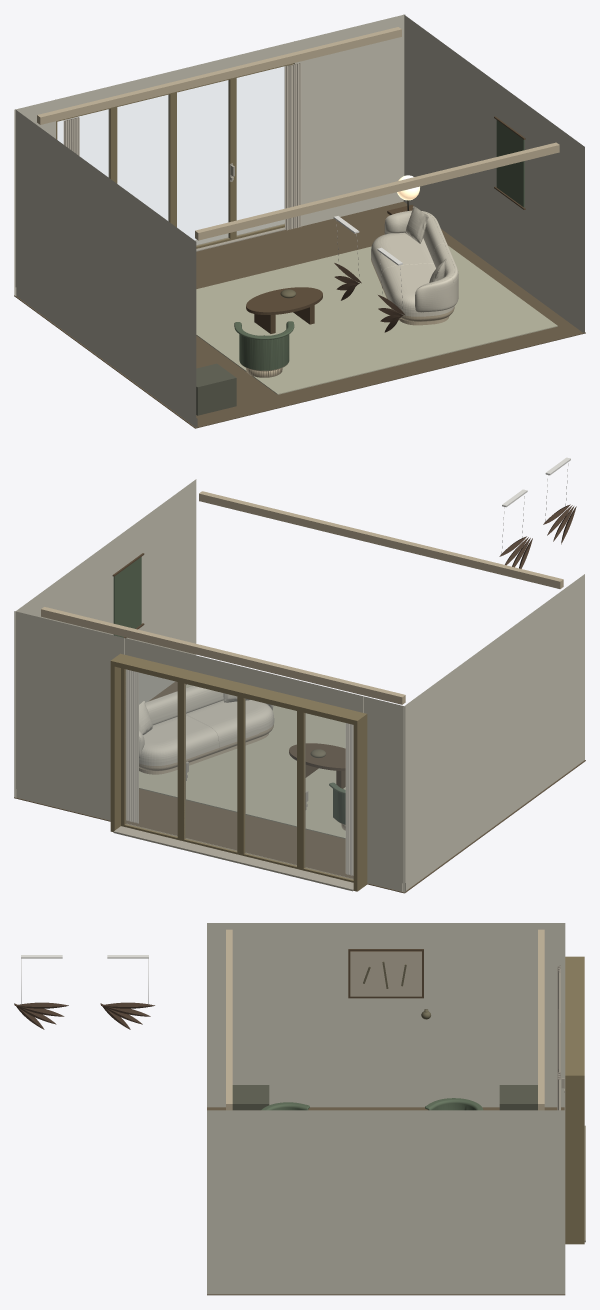
The model's file is great-3.glb.
The picture shows the model from 3 angles, top to bottom: view 1: azimuth 30°, elevation 25°; view 2: azimuth 150°, elevation 25°; view 3: azimuth 270°, elevation 25°; orthographic projection.
Parts seen in each view (by area): view 1: DESIGN | great removable wall finish, DESIGN | Great room primary ground, DESIGN | great floor finish, DESIGN | R10 bifold panel 4 glass, DESIGN | Great room sofa facing conversation, DESIGN | R10 bifold panel 3 glass, DESIGN | R10 bifold panel 2 glass, DESIGN | Garden salon perimeter timber, DESIGN | Garden salon perimeter timber.001, DESIGN | Great room soft window edge.001, DESIGN | Required Bellustar swivel chair one, DESIGN | R10 bifold panel 1 glass (+9 smaller); view 2: DESIGN | great removable wall finish, DESIGN | Great room primary ground, DESIGN | R10 bifold panel 3 glass, DESIGN | R10 bifold panel 4 glass, DESIGN | R10 bifold panel 2 glass, DESIGN | great floor finish, DESIGN | R10 bifold panel 1 glass, DESIGN | Great room sofa facing conversation, DESIGN | Garden salon perimeter timber, DESIGN | Garden salon perimeter timber.001, DESIGN | R10 garden opening head, DESIGN | R10 garden opening jamb (+14 smaller); view 3: DESIGN | great removable wall finish, DESIGN | R10 garden opening jamb.001, DESIGN | R10 quiet mineral artwork, DESIGN | R10 garden opening head, DESIGN | great floor finish, DESIGN | Garden salon perimeter timber, DESIGN | Garden salon perimeter timber.001, DESIGN | Great room low stone display.001, DESIGN | Great room low stone display, DESIGN | Required Flou pendant 1, DESIGN | Required Flou pendant 2, DESIGN | R10 mineral artwork slim frame (+1 smaller).
Part boxes in pixels (x1,y1,x2,y2): DESIGN | great removable wall finish: [14, 14, 584, 427]; DESIGN | Great room primary ground: [196, 245, 557, 394]; DESIGN | great floor finish: [14, 201, 585, 428]; DESIGN | R10 bifold panel 4 glass: [177, 80, 228, 245]; DESIGN | Great room sofa facing conversation: [371, 206, 458, 325]; DESIGN | R10 bifold panel 3 glass: [237, 66, 284, 235]; DESIGN | R10 bifold panel 2 glass: [117, 95, 168, 220]; DESIGN | Garden salon perimeter timber: [195, 142, 559, 240]; DESIGN | Garden salon perimeter timber.001: [37, 27, 401, 124]; DESIGN | Great room soft window edge.001: [285, 63, 301, 230]; DESIGN | Required Bellustar swivel chair one: [234, 321, 294, 377]; DESIGN | R10 bifold panel 1 glass: [57, 109, 109, 177]; DESIGN | great removable wall finish: [14, 479, 584, 892]; DESIGN | Great room primary ground: [139, 684, 345, 838]; DESIGN | R10 bifold panel 3 glass: [125, 669, 177, 836]; DESIGN | R10 bifold panel 4 glass: [185, 684, 236, 851]; DESIGN | R10 bifold panel 2 glass: [245, 699, 296, 865]; DESIGN | great floor finish: [14, 681, 585, 893]; DESIGN | R10 bifold panel 1 glass: [305, 713, 353, 879]; DESIGN | Great room sofa facing conversation: [139, 685, 274, 774]; DESIGN | Garden salon perimeter timber: [199, 491, 563, 588]; DESIGN | Garden salon perimeter timber.001: [41, 607, 405, 704]; DESIGN | R10 garden opening head: [110, 653, 367, 725]; DESIGN | R10 garden opening jamb: [353, 716, 367, 891]; DESIGN | great removable wall finish: [207, 923, 565, 1294]; DESIGN | R10 garden opening jamb.001: [565, 1077, 584, 1244]; DESIGN | R10 quiet mineral artwork: [350, 951, 421, 996]; DESIGN | R10 garden opening head: [565, 956, 584, 1080]; DESIGN | great floor finish: [207, 1107, 565, 1295]; DESIGN | Garden salon perimeter timber: [226, 929, 232, 1110]; DESIGN | Garden salon perimeter timber.001: [538, 929, 544, 1110]; DESIGN | Great room low stone display.001: [499, 1085, 537, 1110]; DESIGN | Great room low stone display: [232, 1085, 269, 1110]; DESIGN | Required Flou pendant 1: [14, 1002, 68, 1029]; DESIGN | Required Flou pendant 2: [100, 1002, 154, 1029]; DESIGN | R10 mineral artwork slim frame: [348, 949, 423, 998].
Bounding box in the file's own units: 6 × 3.04 × 7.7.
